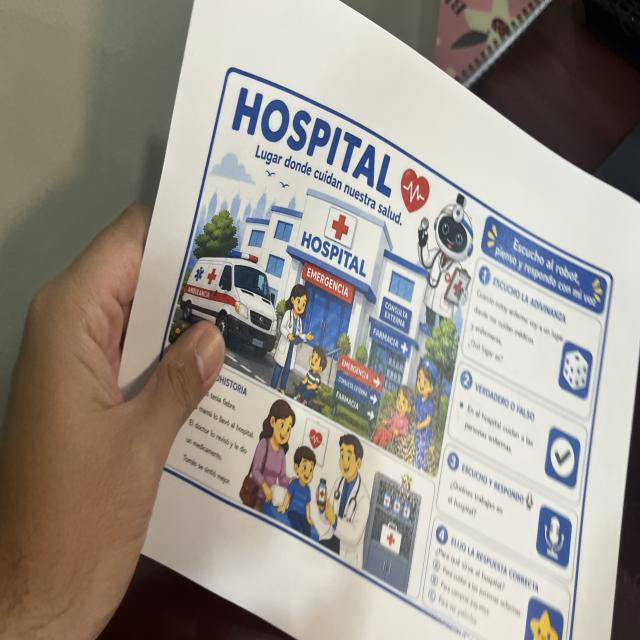hospital: (148, 65, 615, 640)
